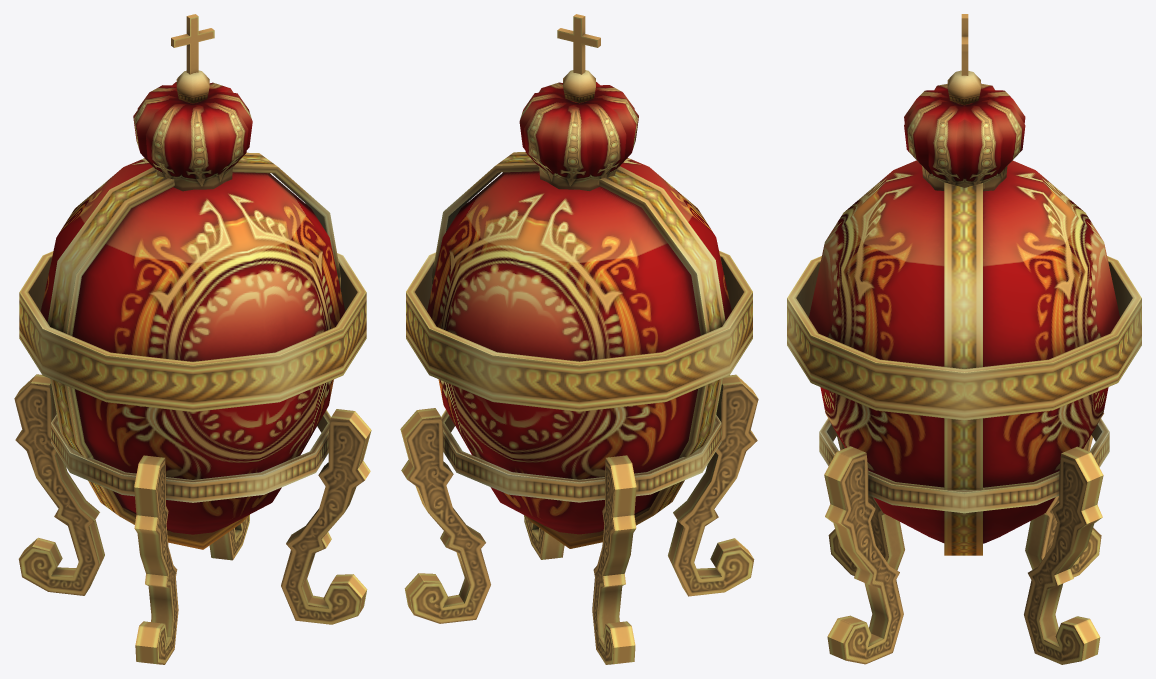
File: ROYAL_EGG.FBX
3 views of the same model, side by side, from view 1: azimuth 30°, elevation 25°; view 2: azimuth 150°, elevation 25°; view 3: azimuth 270°, elevation 25° (orthographic). The views are drawn at different scales.
Visible parts, largest first — view 1: ROYAL_EGG; view 2: ROYAL_EGG; view 3: ROYAL_EGG.
Boxes of the visible parts, box(x1,y1,x2,y2) form: ROYAL_EGG: box(14, 14, 371, 664); ROYAL_EGG: box(400, 14, 758, 664); ROYAL_EGG: box(787, 14, 1141, 664).
Bounding box in the file's own units: 1.39 × 2.59 × 1.39.
